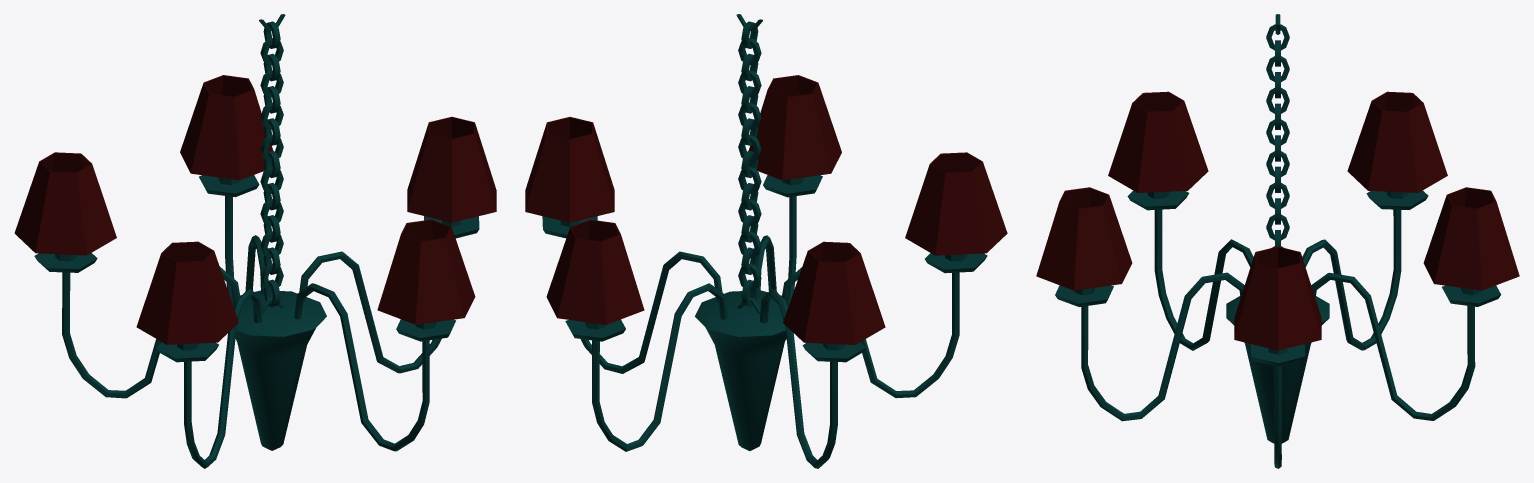
File: chandelier.fbx
3 renders of one model, left to right at view 1: azimuth 30°, elevation 25°; view 2: azimuth 150°, elevation 25°; view 3: azimuth 270°, elevation 25°, orthographic.
Visible parts, largest first — view 1: Ceiling_Lamp; view 2: Ceiling_Lamp; view 3: Ceiling_Lamp.
Boxes of the visible parts, x1,y1,x2,y2 form: Ceiling_Lamp: (14, 14, 496, 468); Ceiling_Lamp: (525, 14, 1007, 468); Ceiling_Lamp: (1036, 14, 1519, 468).
Bounding box in the file's own units: 233 × 235 × 242.
